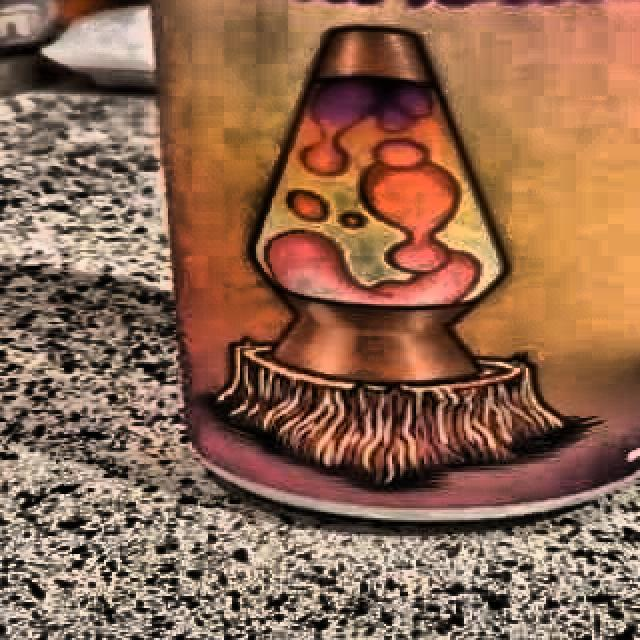metal: (136, 0, 640, 538)
